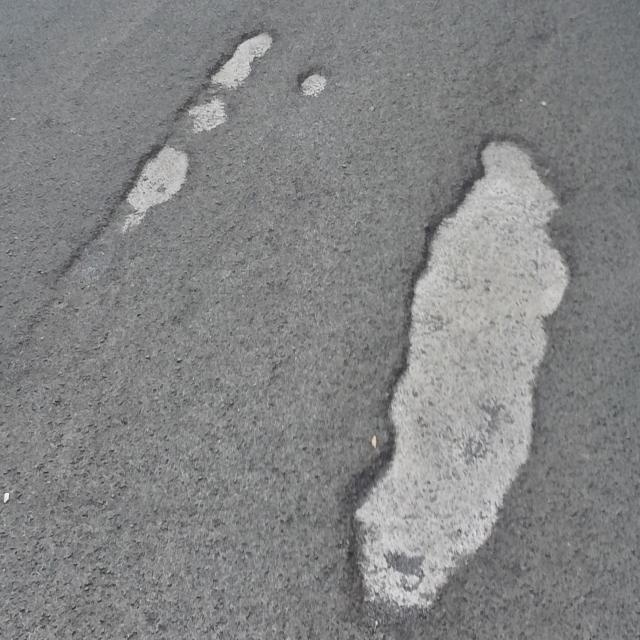pothole: (338, 81, 606, 624), (30, 3, 285, 284), (292, 49, 334, 116)
